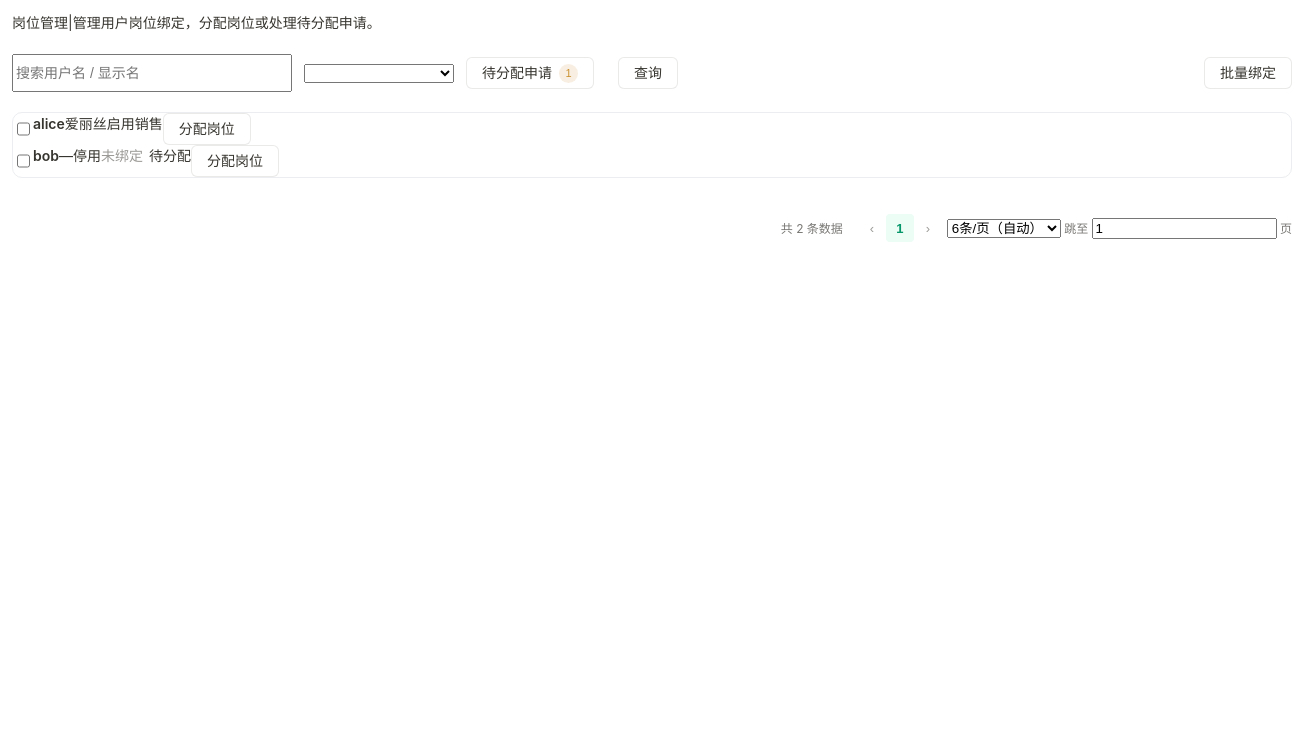
Scenario: AdminPositionAssignments —— 批量绑定（2026-10-08 对齐岗位管理 md §二.5 / §4.2） › 勾选 2 名用户 →【批量绑定】按钮右侧徽标显示 2；打开弹窗顶部写「已选 2 名用户」
Click the checkbox with class "row-check" next to "alice". click: (24, 129)
box: [17,116,30,142]
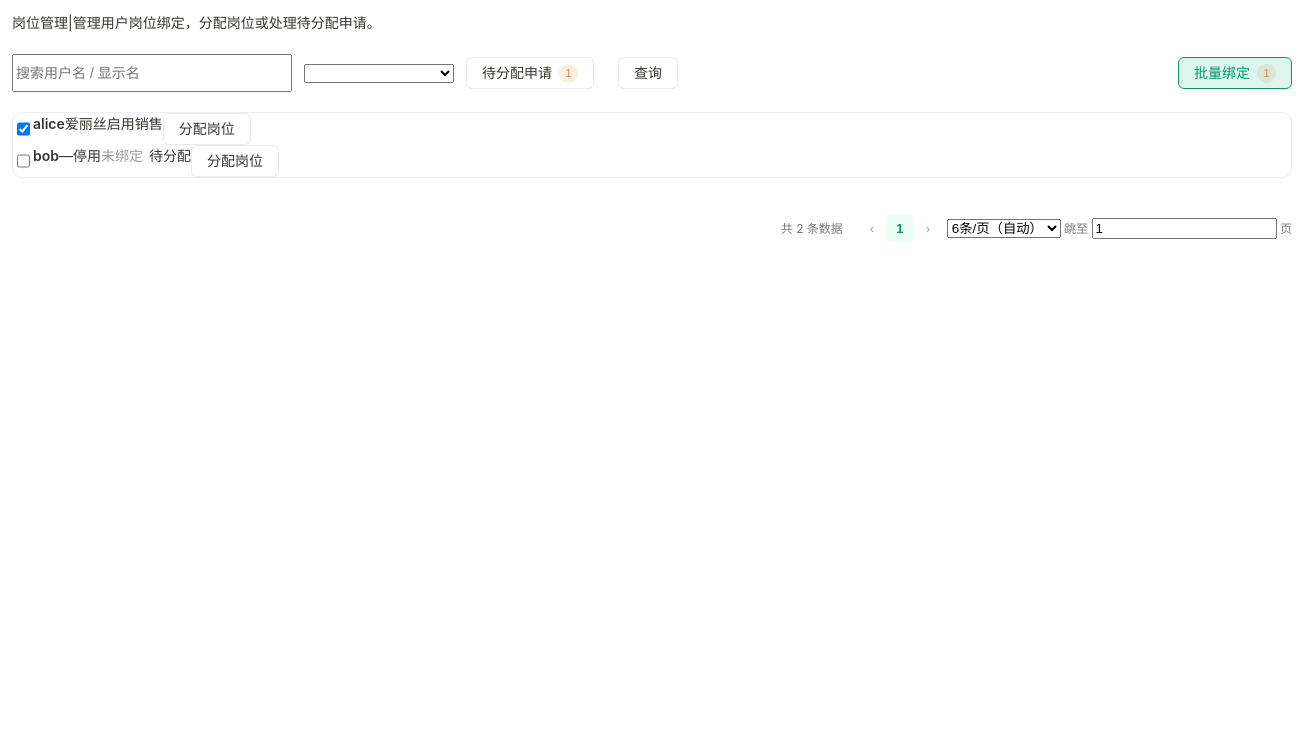
Click the checkbox with class "row-check" next to "bob". click: (24, 161)
box: [17,148,30,174]
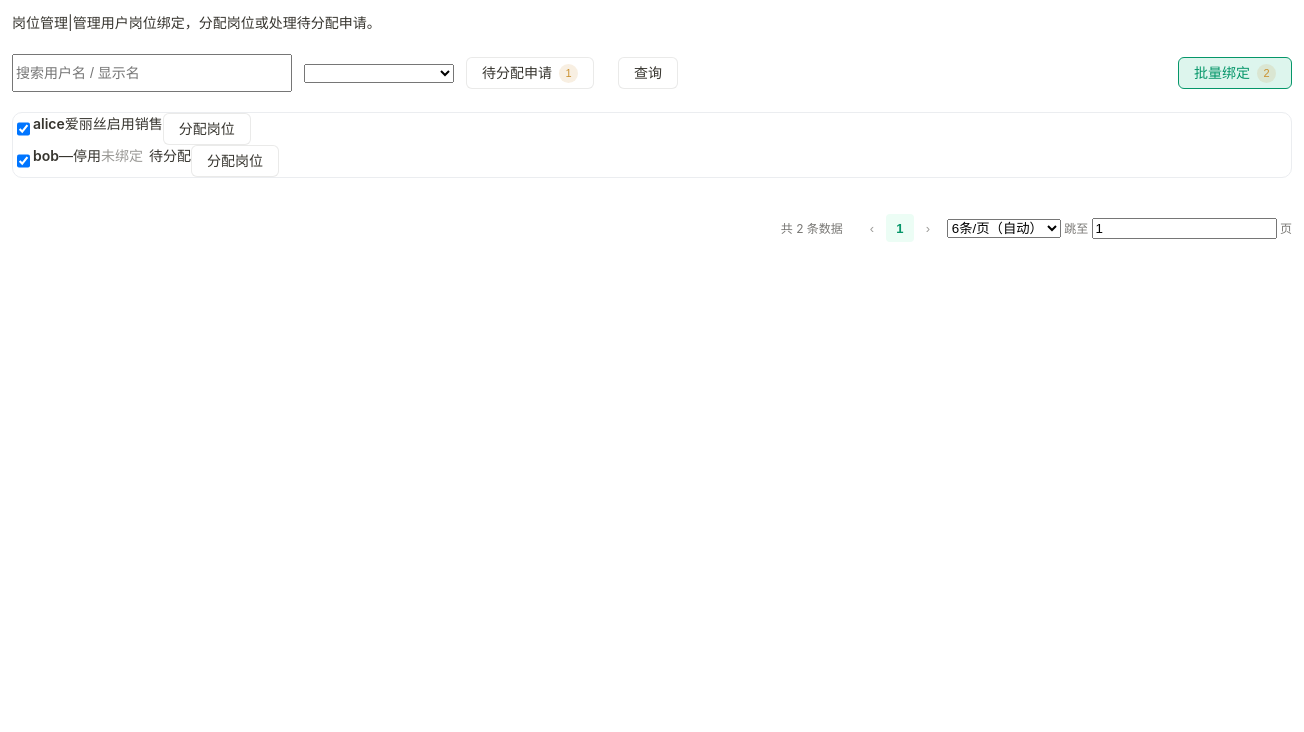
Click the button "批量绑定 2". click: (1235, 73)
box: [1178,57,1292,89]
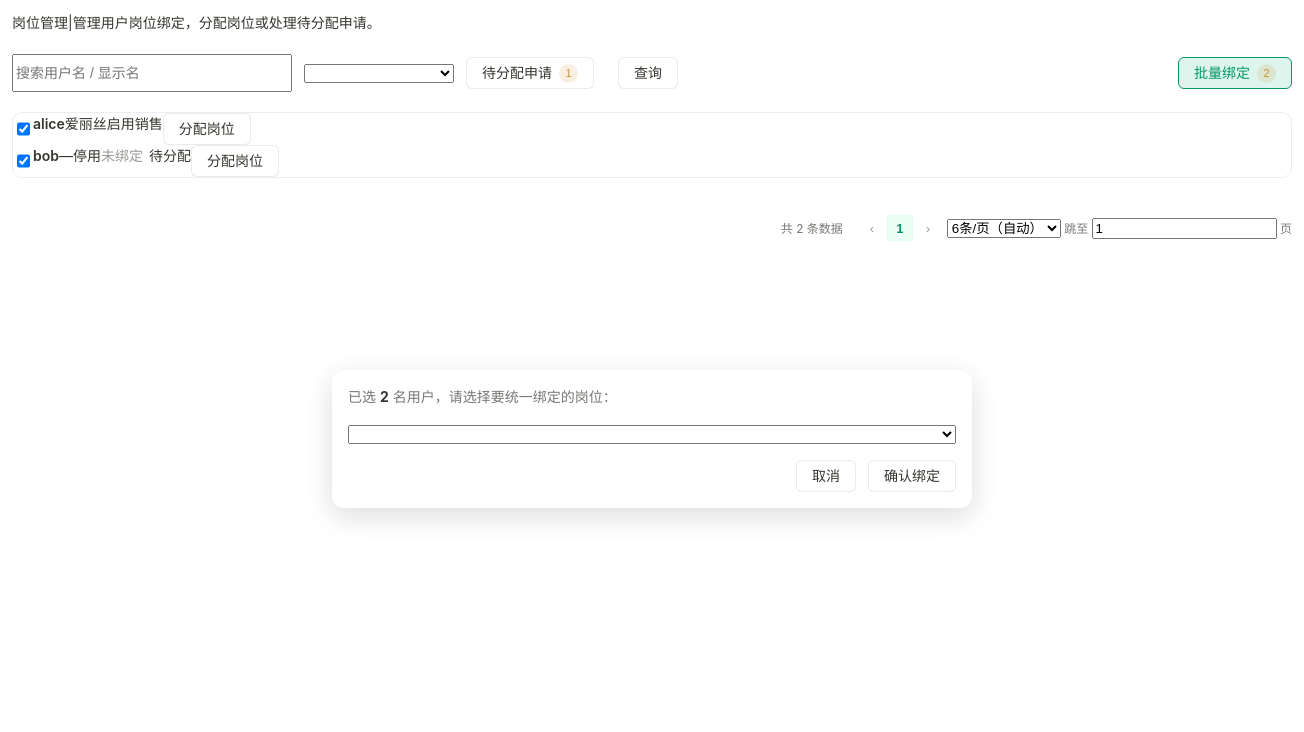
Now the 1st text "2" is shown, box [1257,64,1276,83]
Now the element showing "已选 2 名用户，请选择要统一绑定的岗位： 取消 确认绑定" is shown, box [332,370,972,508]
